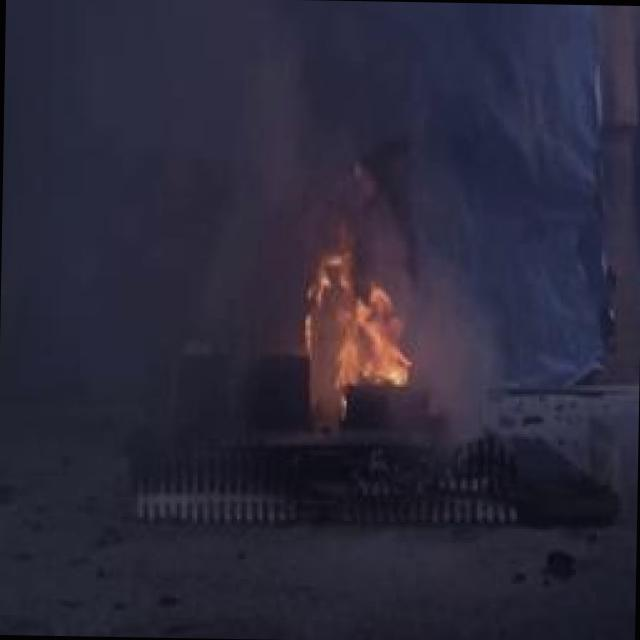fire: (295, 227, 413, 414)
